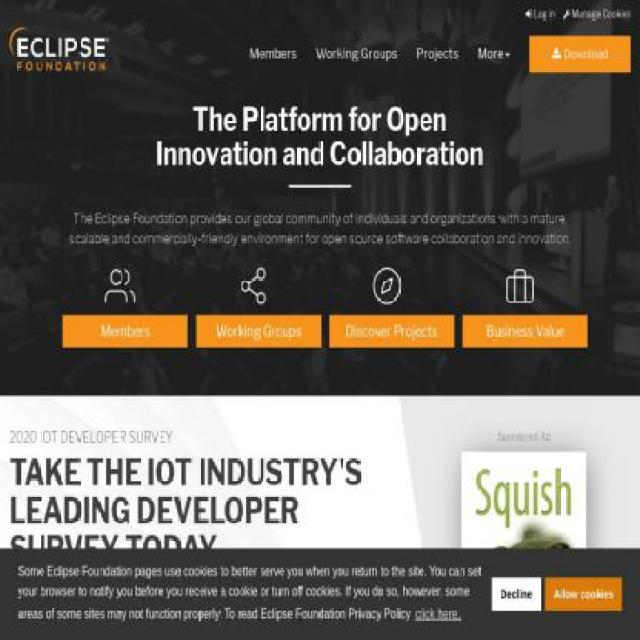button: (462, 452, 586, 619), (62, 265, 178, 307), (195, 265, 311, 307), (329, 265, 445, 307), (462, 265, 578, 307), (196, 315, 322, 348), (328, 315, 454, 348), (462, 315, 588, 348), (63, 315, 188, 348), (529, 36, 631, 72), (9, 612, 114, 639), (545, 577, 623, 611), (491, 577, 542, 611), (314, 45, 398, 63), (413, 601, 462, 627), (248, 45, 298, 63), (416, 45, 458, 63), (476, 45, 510, 63)
